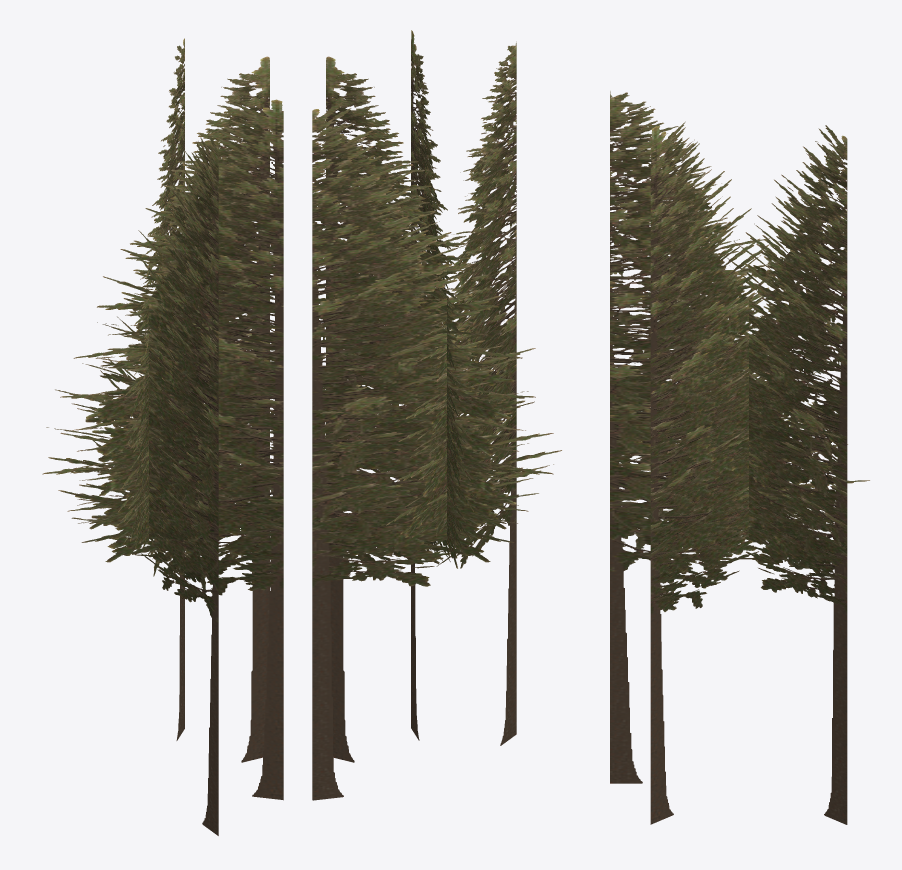
The model's file is fir_tall_b_lod6_cross.gltf.
3 views of the same model, side by side, from view 1: azimuth 30°, elevation 25°; view 2: azimuth 150°, elevation 25°; view 3: azimuth 270°, elevation 25° (orthographic).
Parts seen in each view (by area): view 1: fir_tall_b_LOD6; view 2: fir_tall_b_LOD6; view 3: fir_tall_b_LOD6.
Boxes of the visible parts, x1,y1,x2,y2 form: fir_tall_b_LOD6: (42,38,283,835); fir_tall_b_LOD6: (312,30,561,800); fir_tall_b_LOD6: (610,91,869,824).
Size of the model in its own units: 12.14 by 34.93 by 12.14.
1 material, 1 textured.
